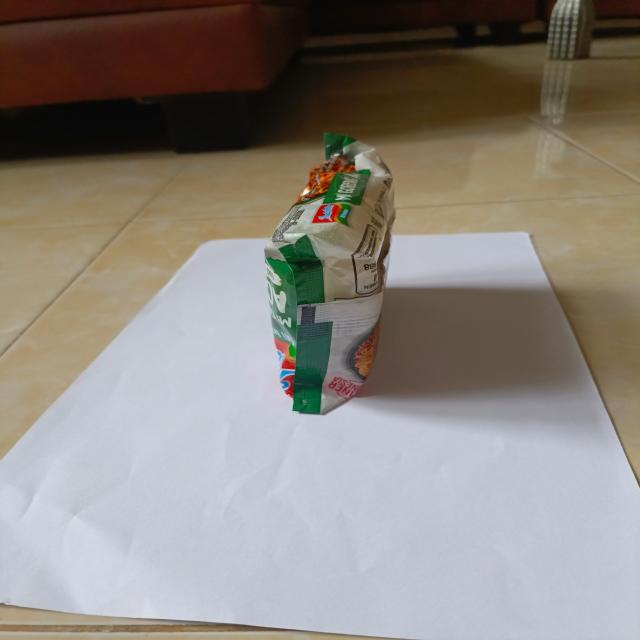gery-salut-coconut: (263, 131, 398, 415)
